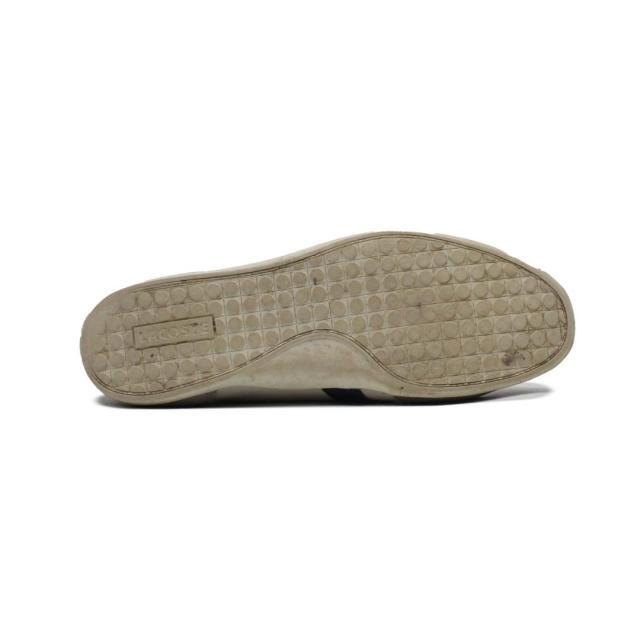outersole: (78, 232, 573, 404)
